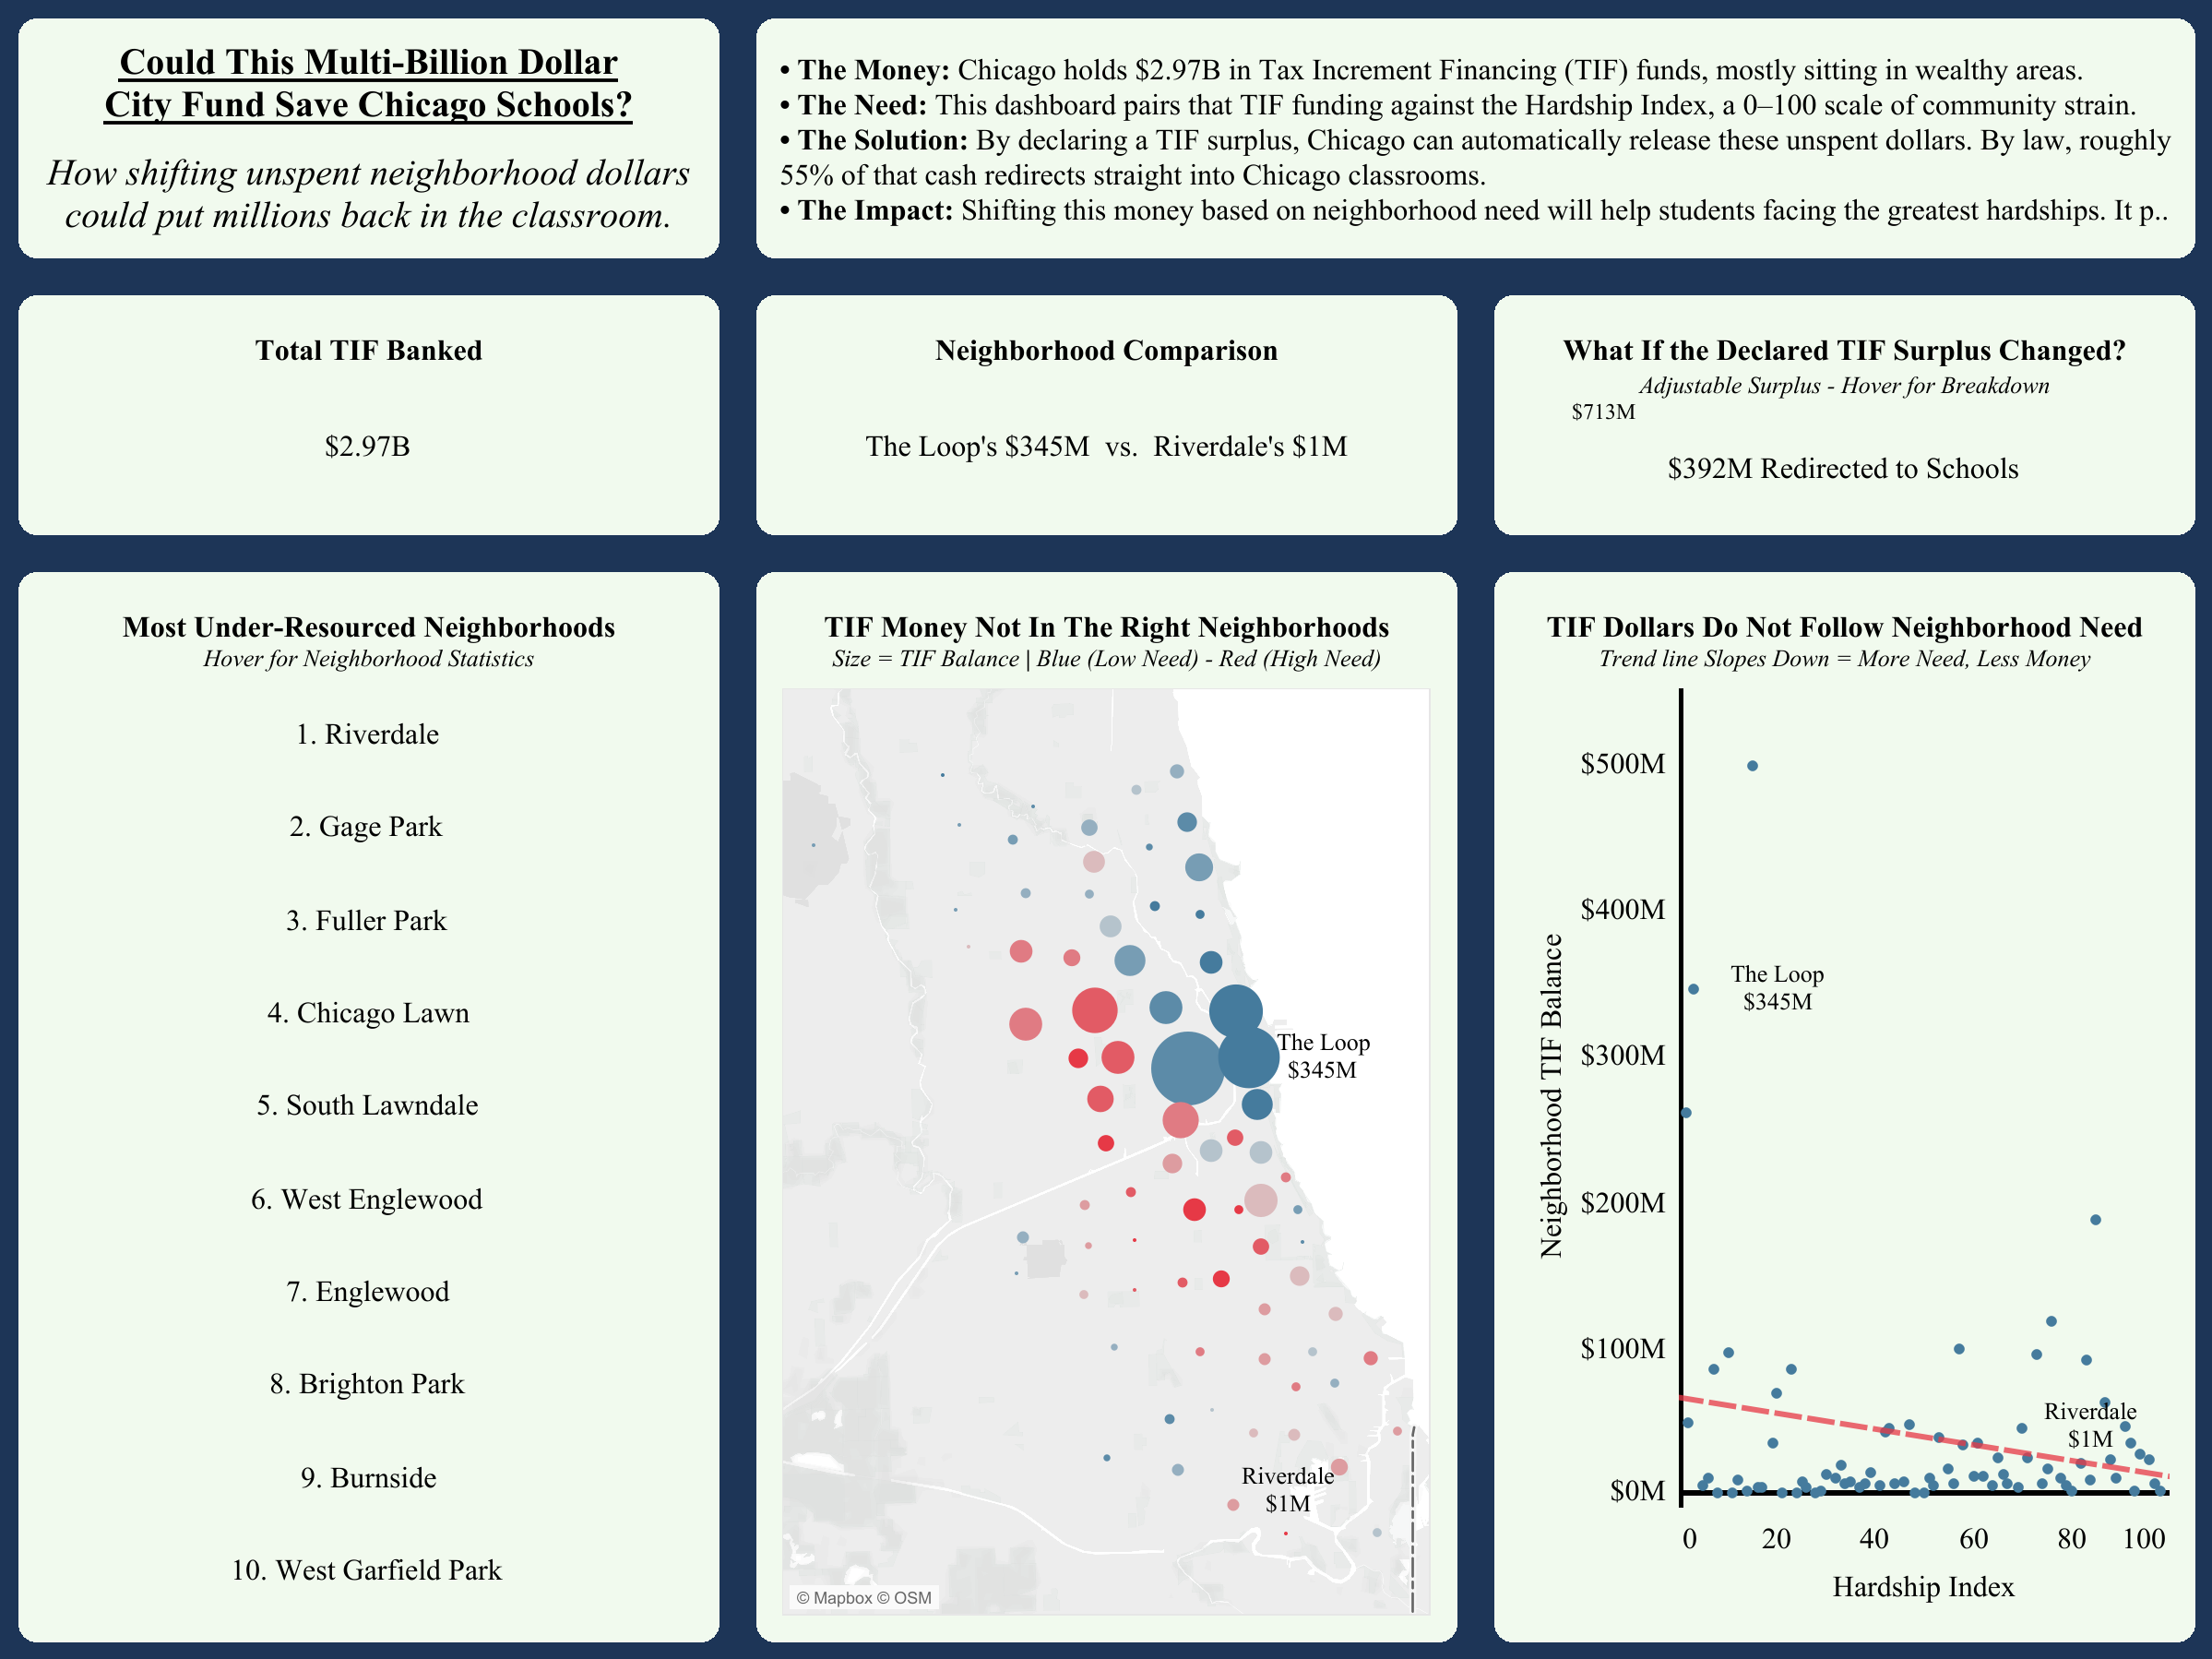

What the dashboard file says about the page in this screenshot:
{"tool":"tableau","page":{"name":"Education Dashboard","canvas":[1200,900],"ordinal":0},"visuals":[{"type":"text","box":[0,0,400,150]},{"type":"text","box":[400,0,800,150]},{"type":"worksheet","title":"KPI - Total TIF Banked","mark":"Text","box":[20,170,360,110]},{"type":"worksheet","title":"KPI - Loop/Riverdale","mark":"Text","box":[420,170,360,110]},{"type":"worksheet","title":"KPI - Surplus","mark":"Text","box":[820,170,360,110]},{"type":"parameter","param":"[Parameters].[Parameter 1459622537928707]","box":[850,200,300,50]},{"type":"worksheet","title":"List 10 Neighborhoods","mark":"Text","rows":["community"],"box":[20,320,360,560]},{"type":"worksheet","title":"Map","mark":"Circle","rows":["lat"],"cols":["lon"],"box":[420,320,360,560]},{"type":"worksheet","title":"Need vs. Money","mark":"Circle","rows":["tif_balance"],"cols":["hardship_index"],"box":[820,320,360,560]}]}

Visuals, with their boxes in screenshot pixels (x1, y1, x2, y2), scaled from the page's 1200x900 canvas onto the 2212x1659 screenshot:
text: region(0, 0, 737, 277)
text: region(737, 0, 2211, 277)
"KPI - Total TIF Banked" worksheet (Text marks): region(37, 314, 700, 516)
"KPI - Loop/Riverdale" worksheet (Text marks): region(774, 314, 1438, 516)
"KPI - Surplus" worksheet (Text marks): region(1512, 314, 2175, 516)
parameter: region(1567, 369, 2120, 460)
"List 10 Neighborhoods" worksheet (Text marks): region(37, 590, 700, 1622)
"Map" worksheet (Circle marks): region(774, 590, 1438, 1622)
"Need vs. Money" worksheet (Circle marks): region(1512, 590, 2175, 1622)
